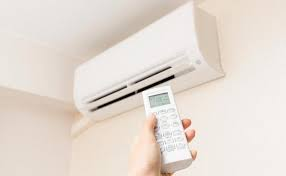ac: (64, 1, 226, 123)
